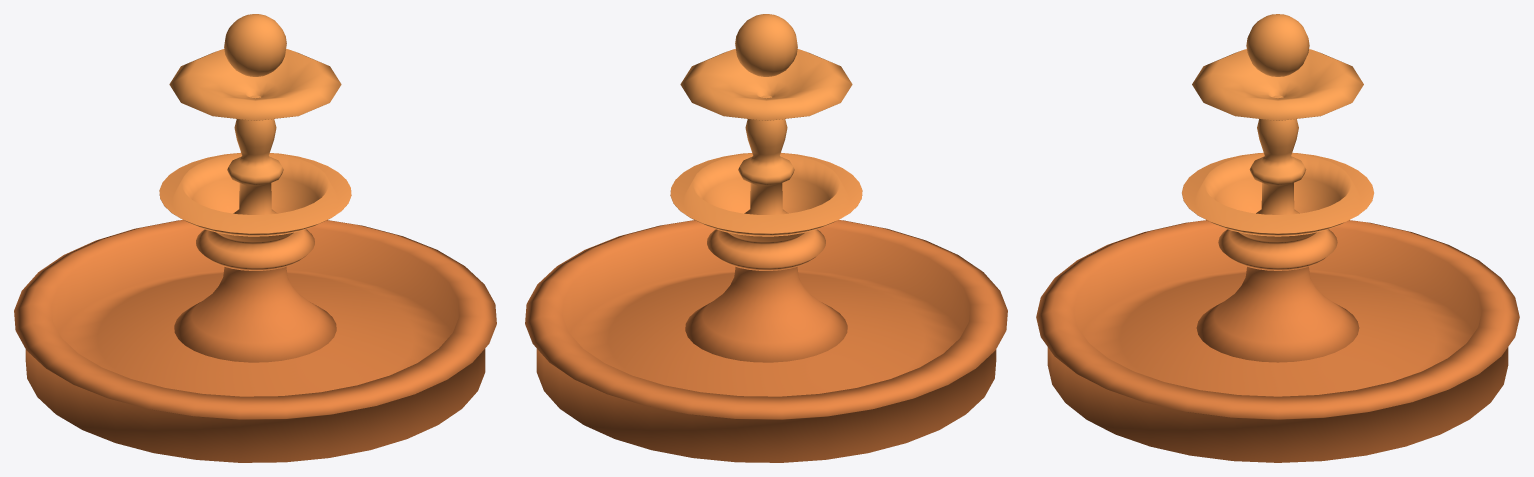
File: Fountain.fbx
3 views of the same model, side by side, from view 1: azimuth 30°, elevation 25°; view 2: azimuth 150°, elevation 25°; view 3: azimuth 270°, elevation 25° (orthographic).
Parts seen in each view (by area): view 1: Fountain; view 2: Fountain; view 3: Fountain.
Boxes of the visible parts, x1,y1,x2,y2 form: Fountain: (14, 14, 496, 462); Fountain: (525, 14, 1007, 462); Fountain: (1036, 14, 1519, 462).
Bounding box in the file's own units: 320 × 254 × 320.
Materials: 1 (1 with a texture image).
